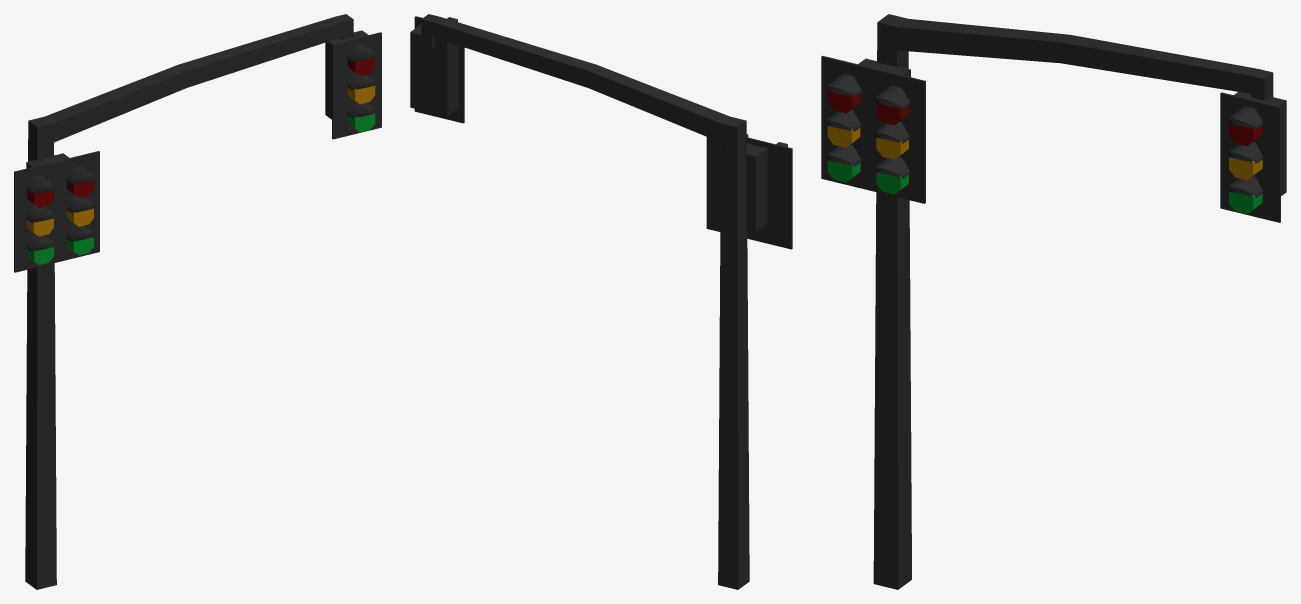
File: trafficlights.fbx
3 renders of one model, left to right at view 1: azimuth 30°, elevation 25°; view 2: azimuth 150°, elevation 25°; view 3: azimuth 330°, elevation 25°, orthographic. The views are drawn at different scales.
Visible parts, largest first — view 1: pCube1, pCube2, pasted__pCube2; view 2: pCube1, pCube2, pasted__pCube2; view 3: pCube1, pCube2, pasted__pCube2.
Boxes of the visible parts, x1,y1,x2,y2 form: pCube1: (25,14,353,589); pCube2: (14,151,99,272); pasted__pCube2: (325,30,381,139); pCube1: (421,14,749,589); pCube2: (706,137,792,249); pasted__pCube2: (410,16,464,123); pCube1: (873,14,1273,589); pCube2: (821,56,925,203); pasted__pCube2: (1220,92,1286,222).
Size of the model in its own units: 18.56 by 23.44 by 3.05.
